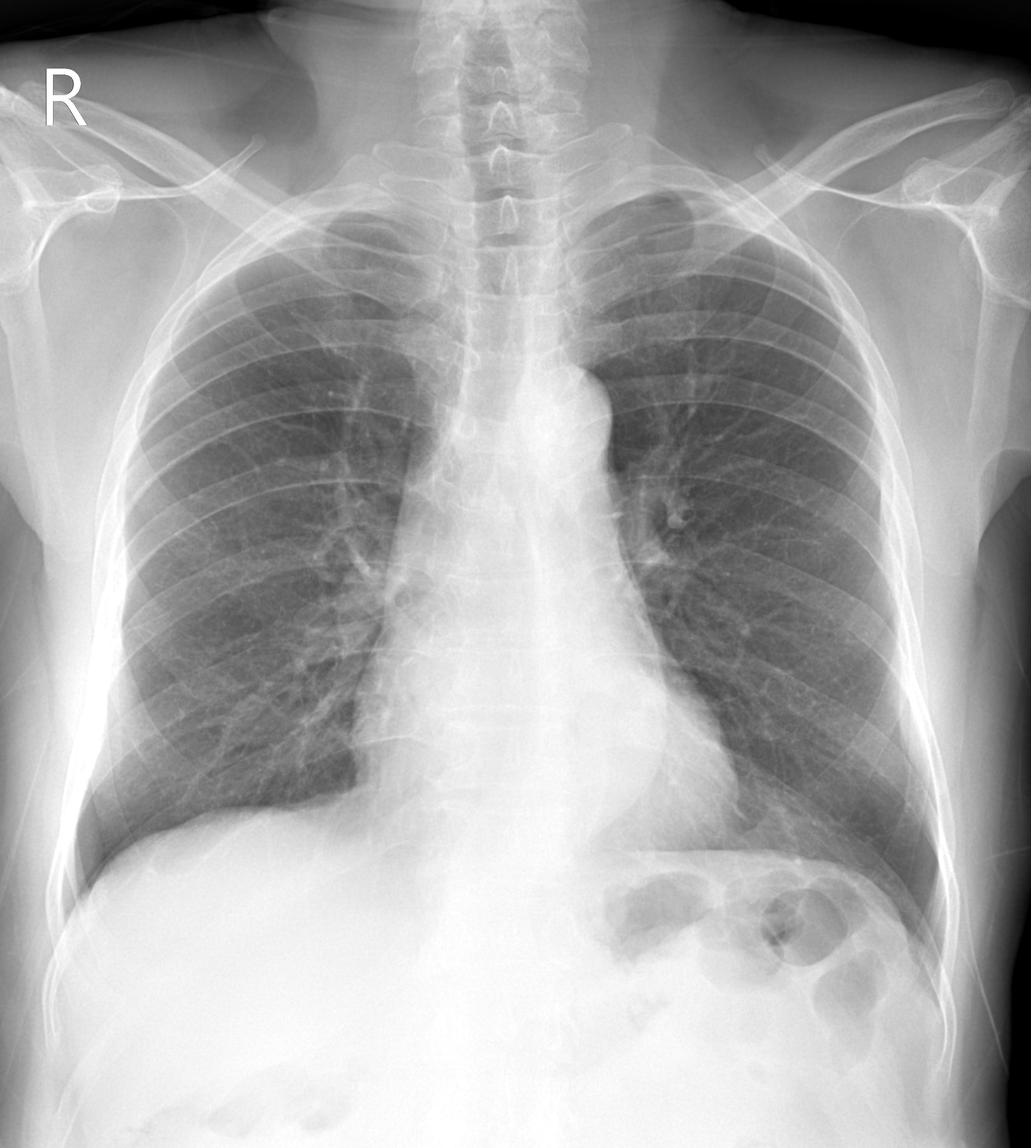Aortic enlargement: (524, 365, 615, 470)
Pulmonary fibrosis: (310, 347, 384, 548)
